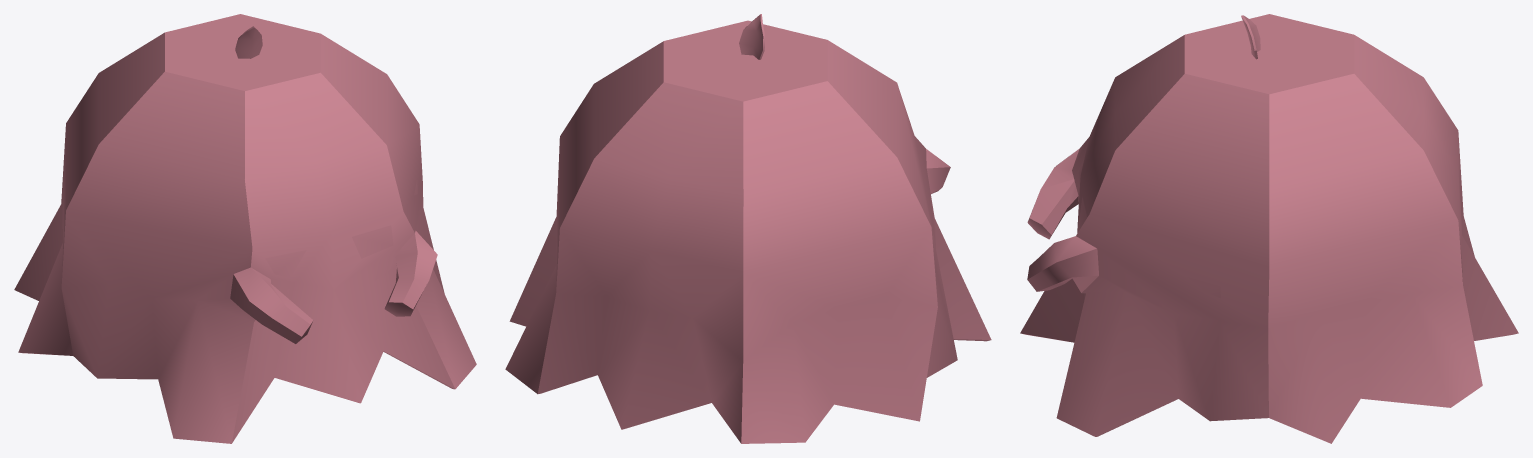
The model's file is cipolaa.fbx.
3 renders of one model, left to right at view 1: azimuth 30°, elevation 25°; view 2: azimuth 150°, elevation 25°; view 3: azimuth 270°, elevation 25°, orthographic. The views are drawn at different scales.
Visible parts, largest first — view 1: cipola_29; view 2: cipola_29; view 3: cipola_29.
Part boxes in pixels (bbox=[...]): cipola_29: bbox=[14, 14, 476, 443]; cipola_29: bbox=[505, 14, 991, 443]; cipola_29: bbox=[1020, 14, 1518, 443].
Size of what is drawn, in the model's own units: 210 by 220 by 168.
